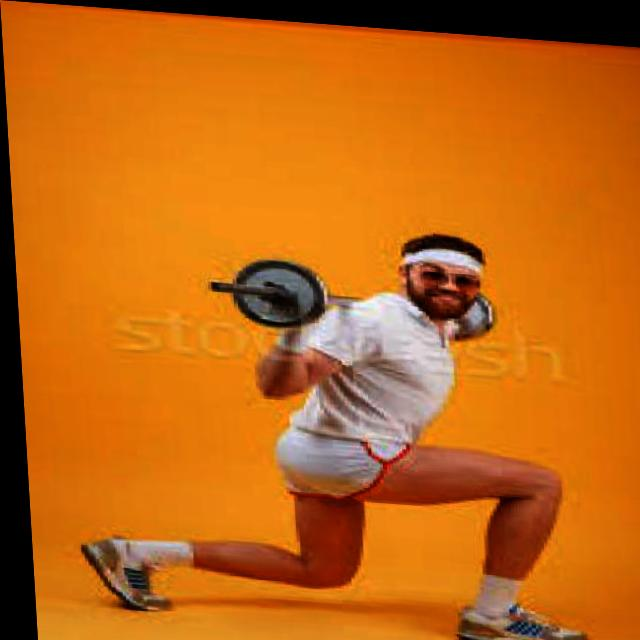barbell: (190, 246, 327, 330)
